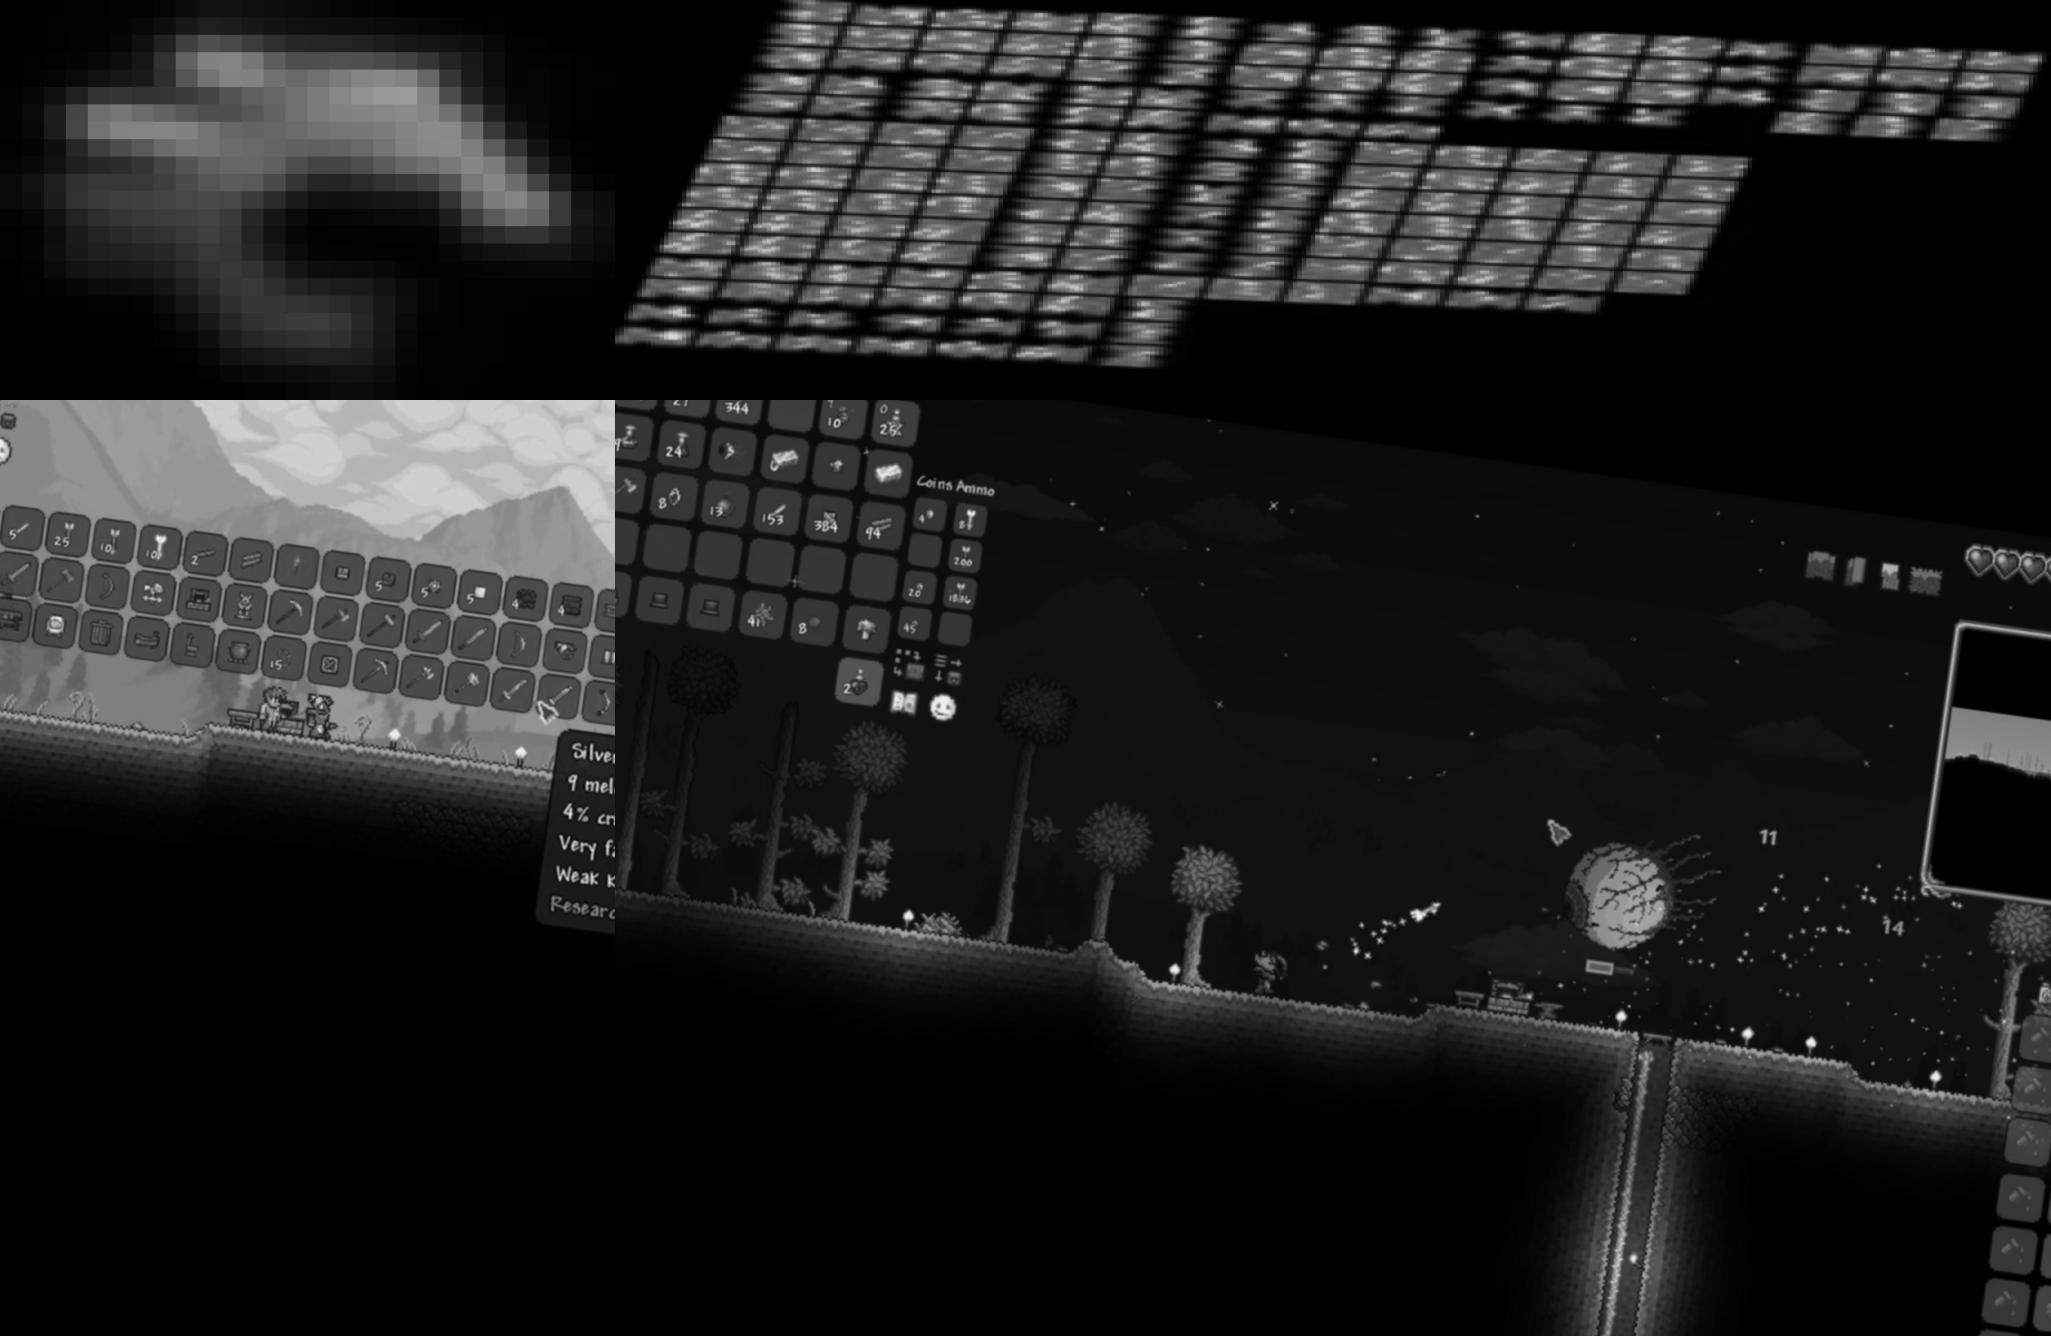eyeC: (1558, 811, 1727, 961)
helmet: (0, 0, 614, 401)
tin: (771, 0, 860, 25)
